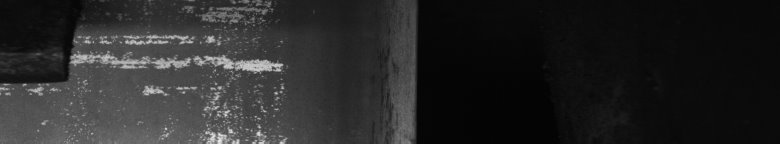kb: (60, 0, 288, 144)
